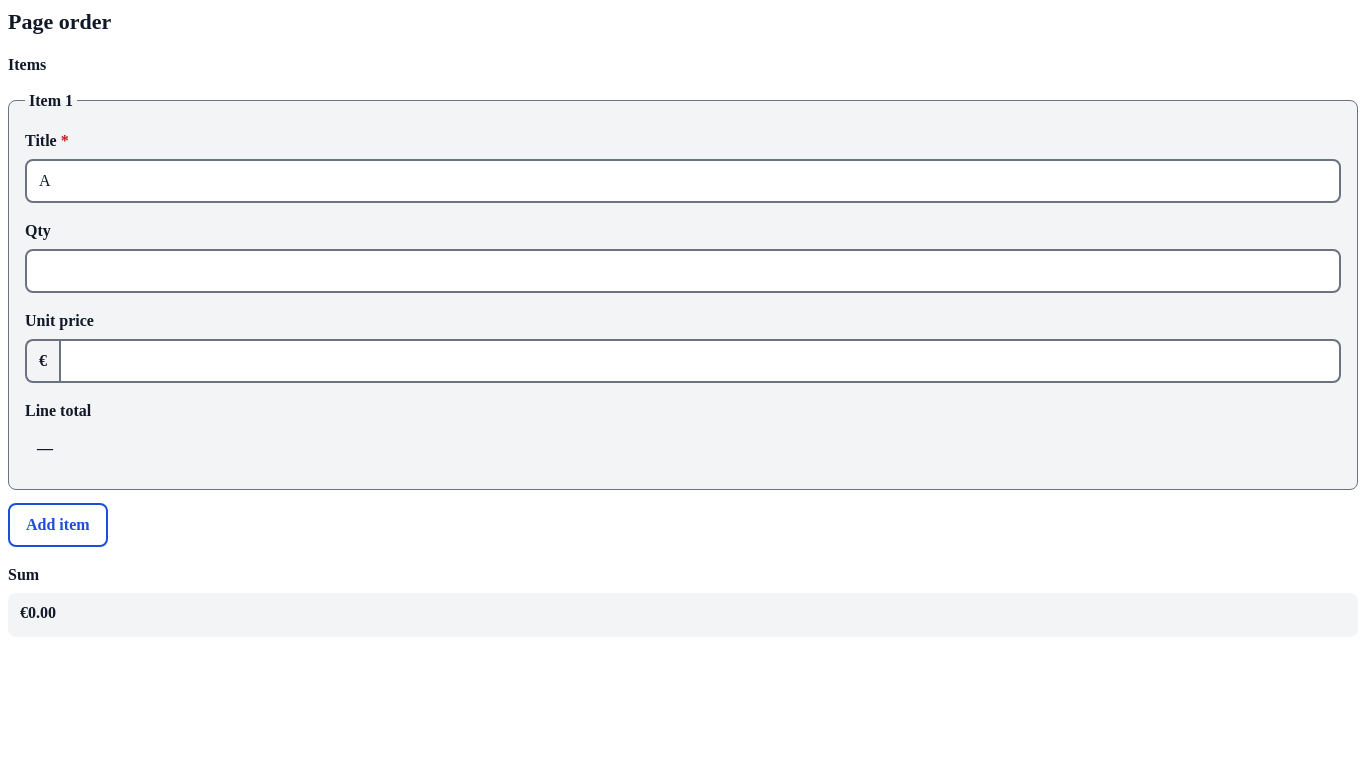
it: repeater cards › adds rows within maxItems and focuses the new row
Click the button "Add item".
click(58, 525)  # box [8,503,108,547]
(page scrolled)
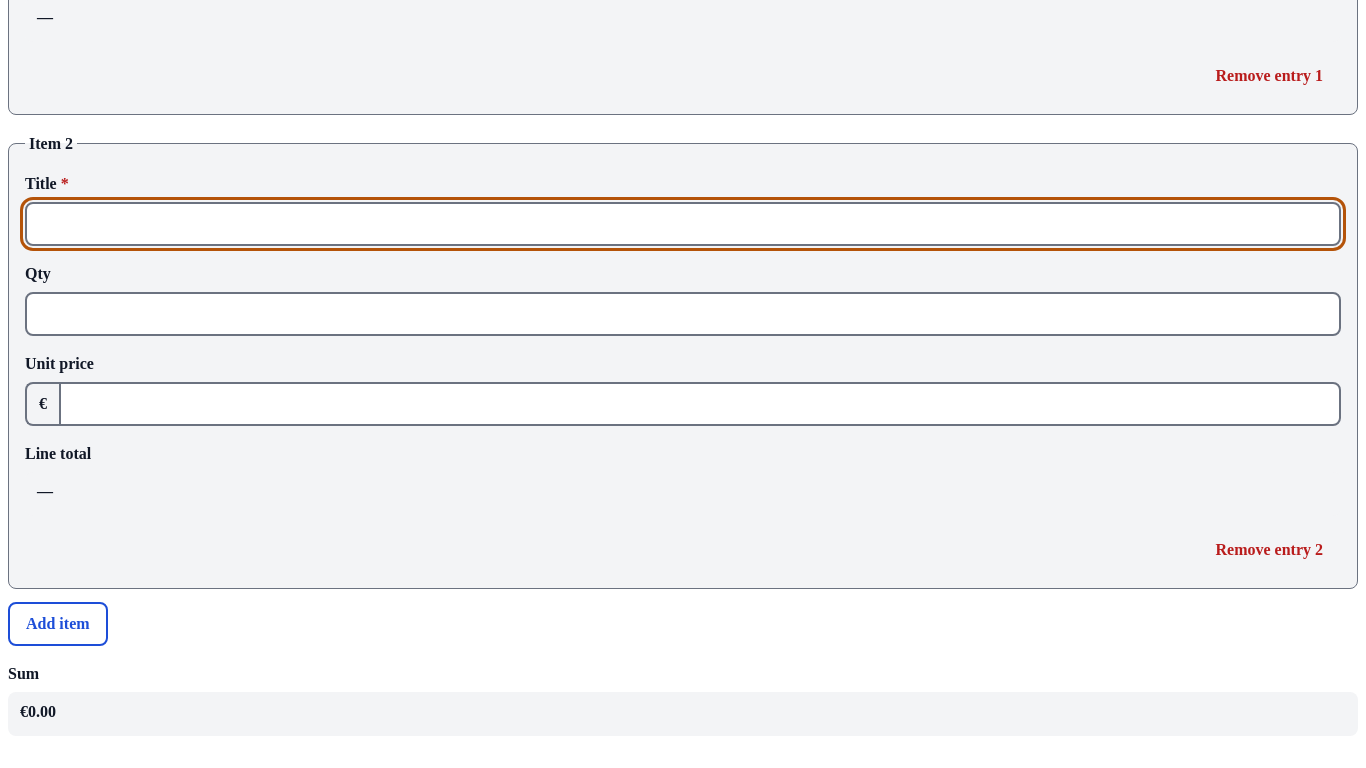
Check: the element "Item 2" is shown, box [8,132,1358,589]
Click the button "Add item".
click(58, 624)  # box [8,602,108,646]
(page scrolled)
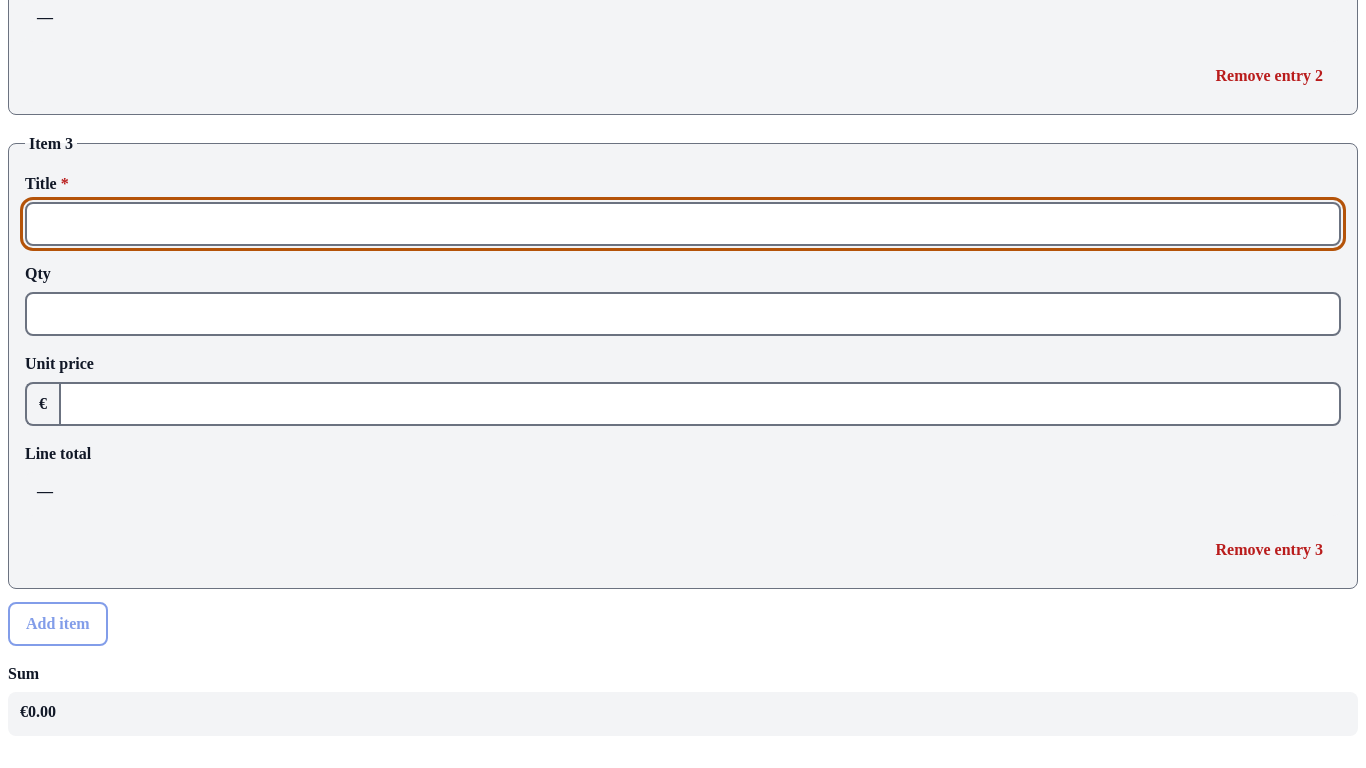
Check: the button "Add item" is disabled, box [8,602,108,646]
